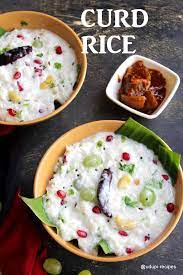curd_rice: (47, 126, 174, 247), (3, 21, 85, 120)
